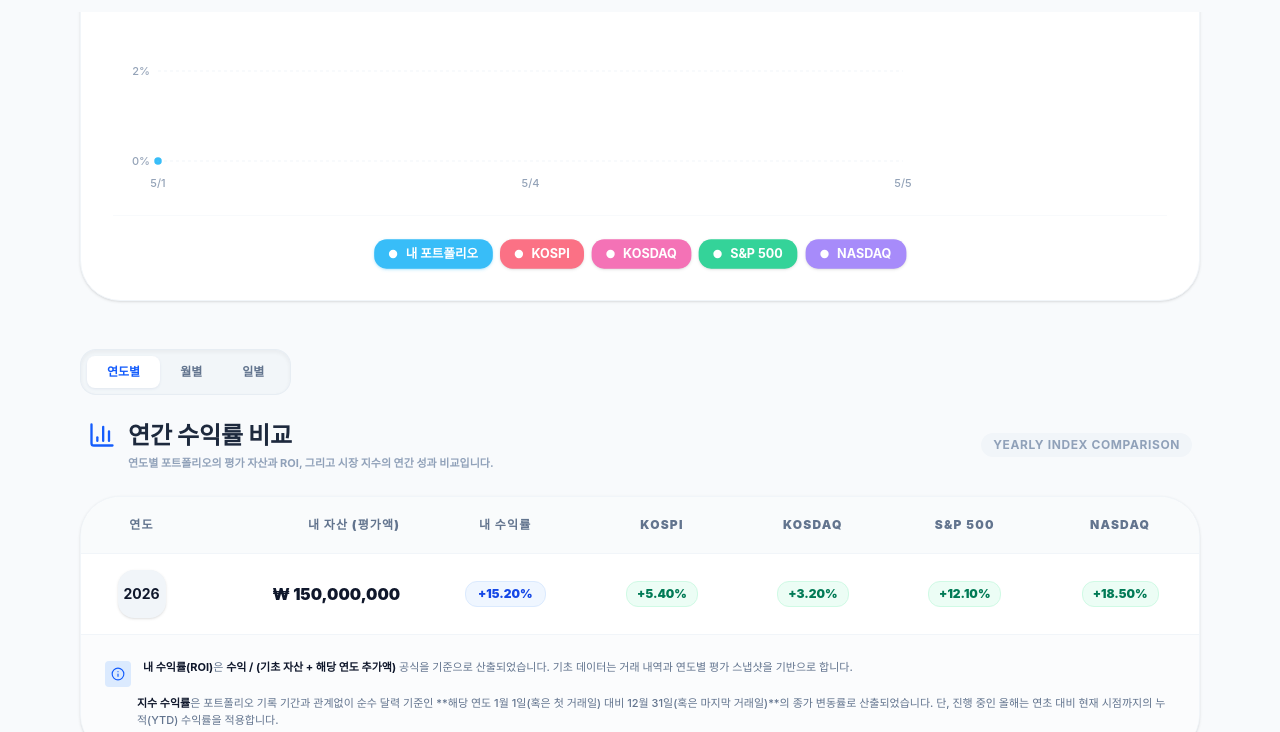
Scenario: BenchmarkPage › [연도별 | 월별 | 일별] 탭 전환에 따라 해당 비교 테이블이 올바르게 전환 렌더링된다
(page scrolled)
Check: the heading "연간 수익률 비교" is shown, box x1=88 y1=418 x2=292 y2=451
Check: the text "월간 수익률 비교" is not shown
'월별' 탭 클릭 시 '월간 수익률 비교' 표로 전환
Click the button "월별": click(191, 372) x1=160 y1=356 x2=222 y2=388
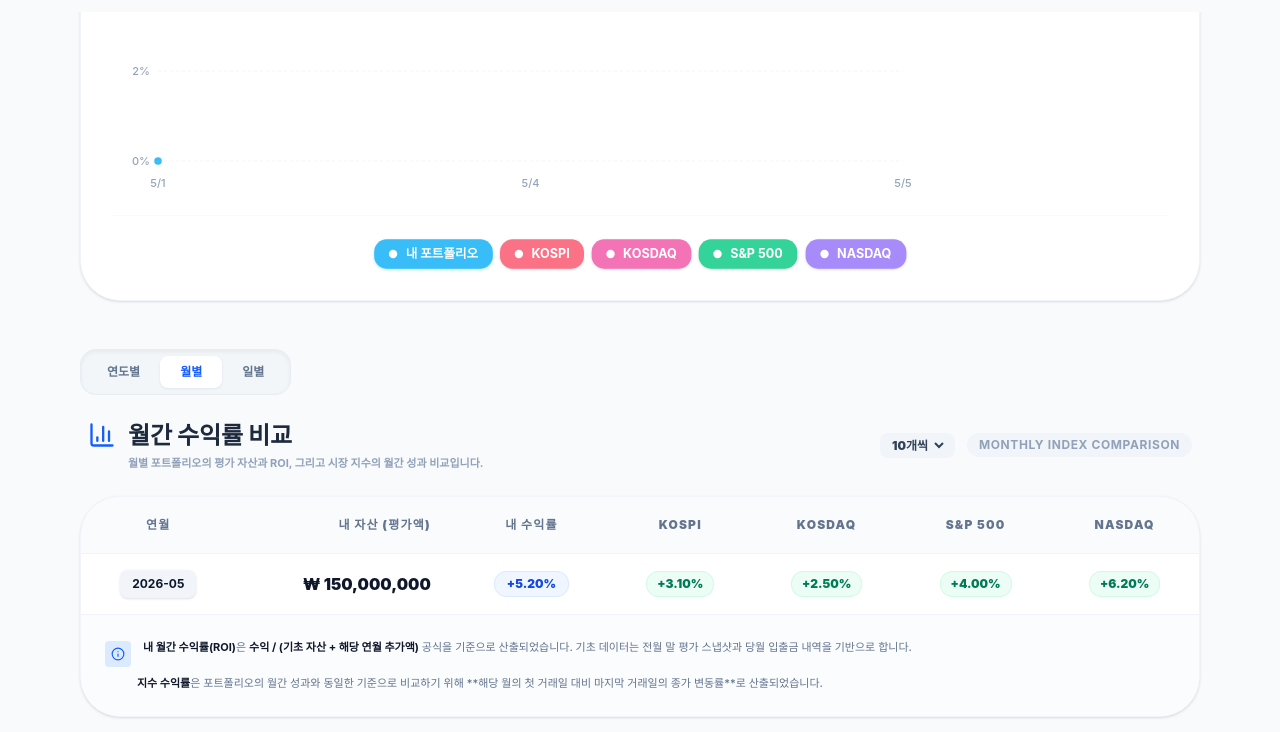
Check: the heading "월간 수익률 비교" is shown, box x1=88 y1=418 x2=292 y2=451
Check: the text "2026-05" is shown, box x1=120 y1=570 x2=196 y2=598
Check: the heading "연간 수익률 비교" is gone
'일별' 탭 클릭 시 '일간 수익률 비교' 표로 전환
Click the button "일별": click(253, 372) x1=222 y1=356 x2=284 y2=388
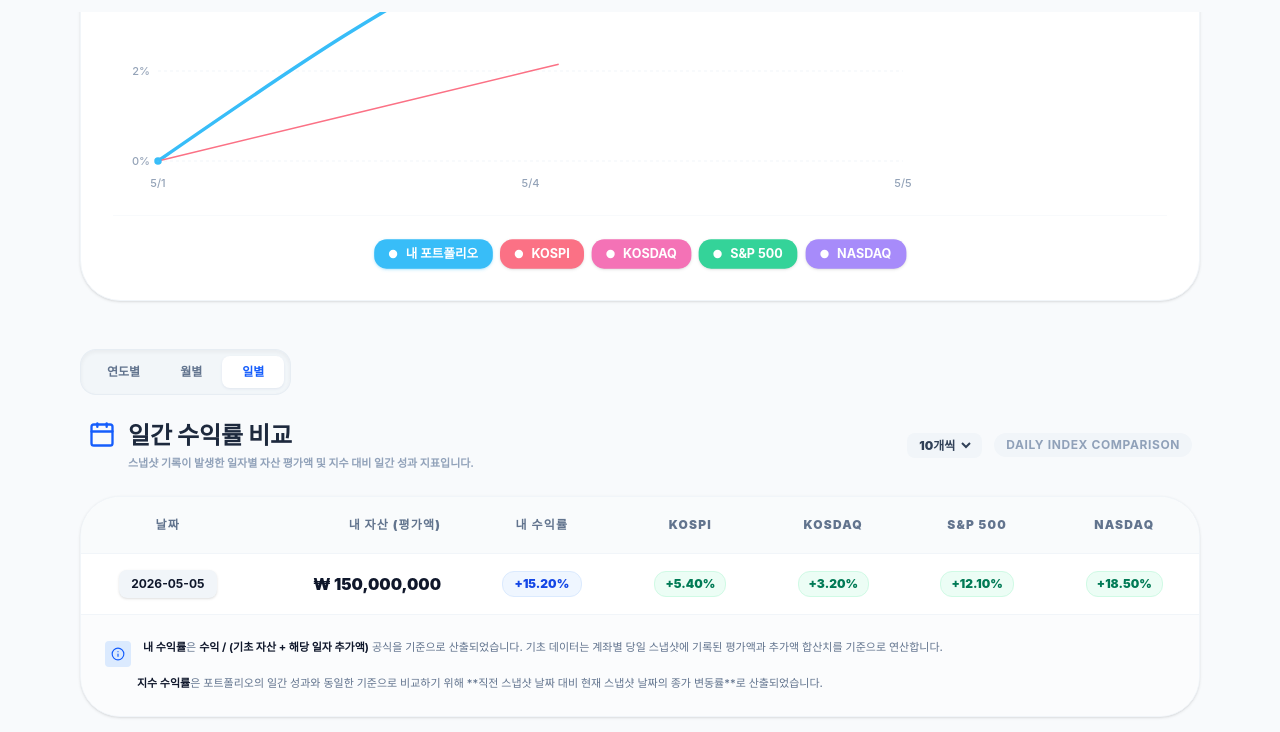
Check: the heading "연간 수익률 비교" is not shown
Check: the heading "일간 수익률 비교" is shown, box x1=88 y1=418 x2=292 y2=451
Check: the heading "월간 수익률 비교" is gone
